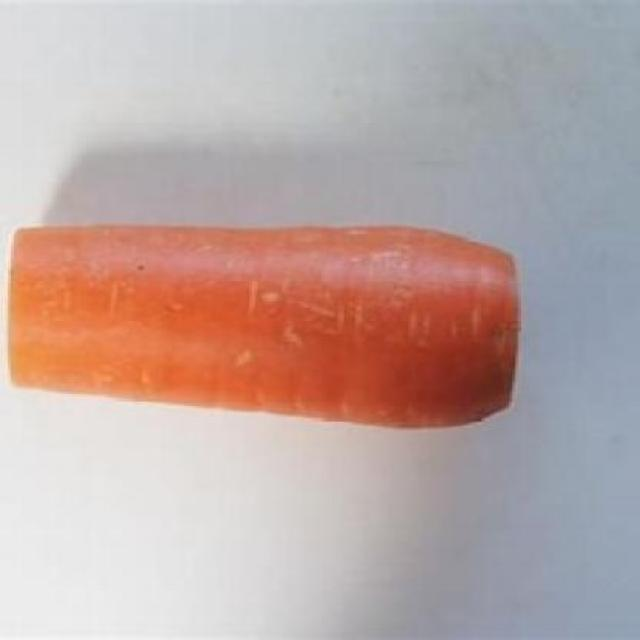carrot: (2, 206, 527, 452)
